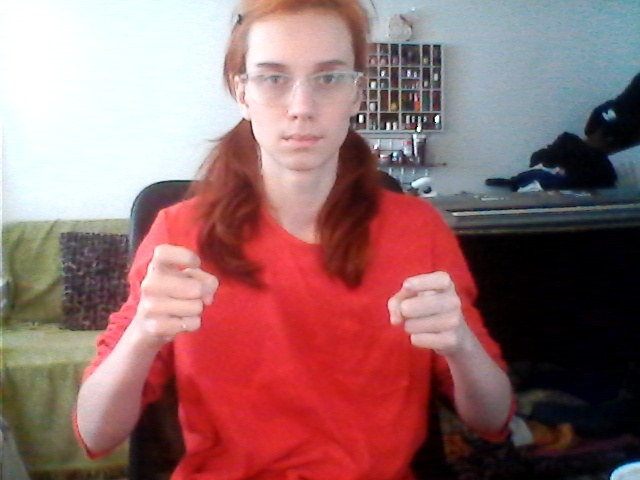davat: (141, 241, 463, 369)
